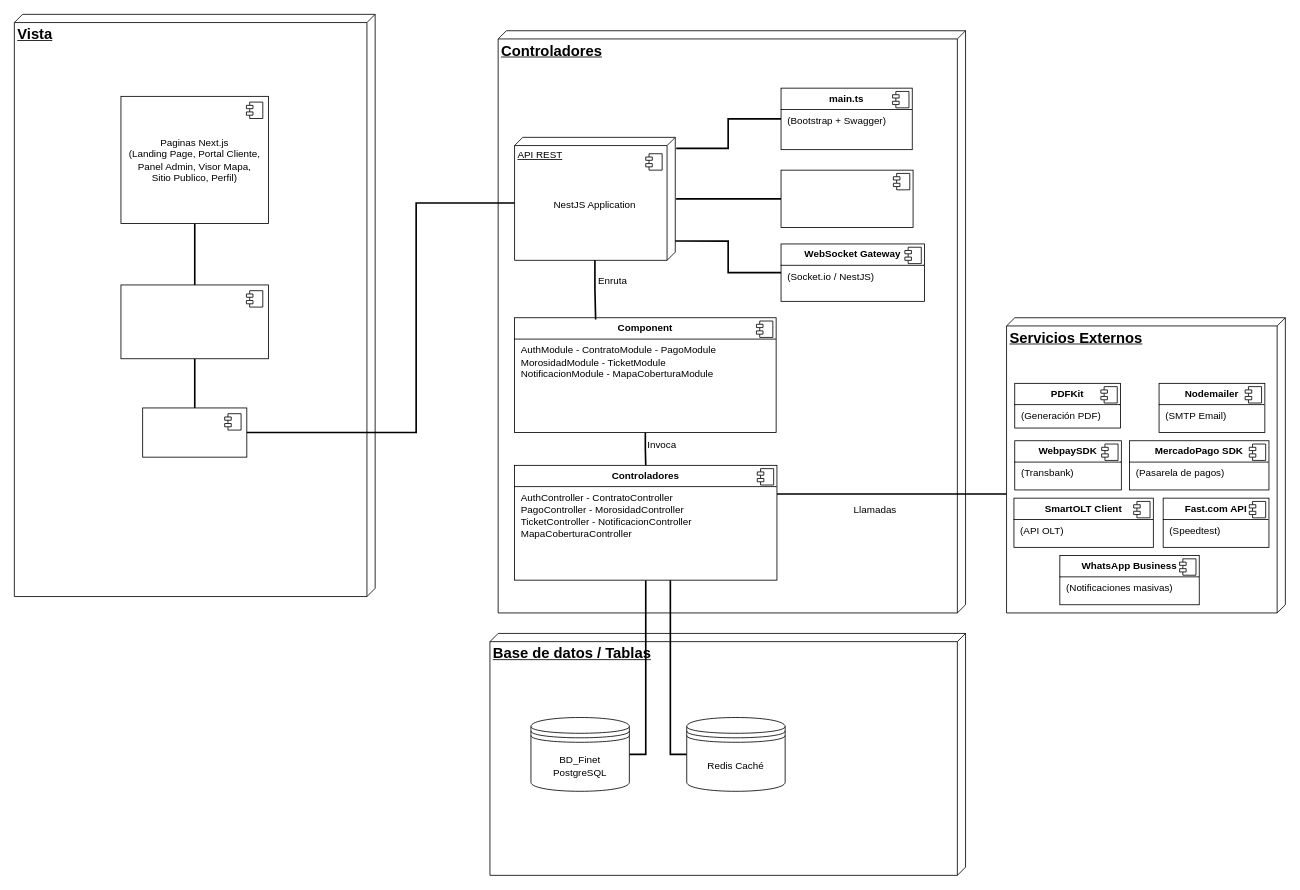
The diagram is 1300 pixels wide and 890 high, and some of its shapes have lost their labels. Here are the shapes that lost their labels. From the top down, the centre of each, then its label:
(x=846, y=198): AuthGuard (JWT + Rate Limiting)
(x=194, y=321): React Components (UI - Hooks - SSR / ISR)
(x=194, y=432): HTTP/JSON
